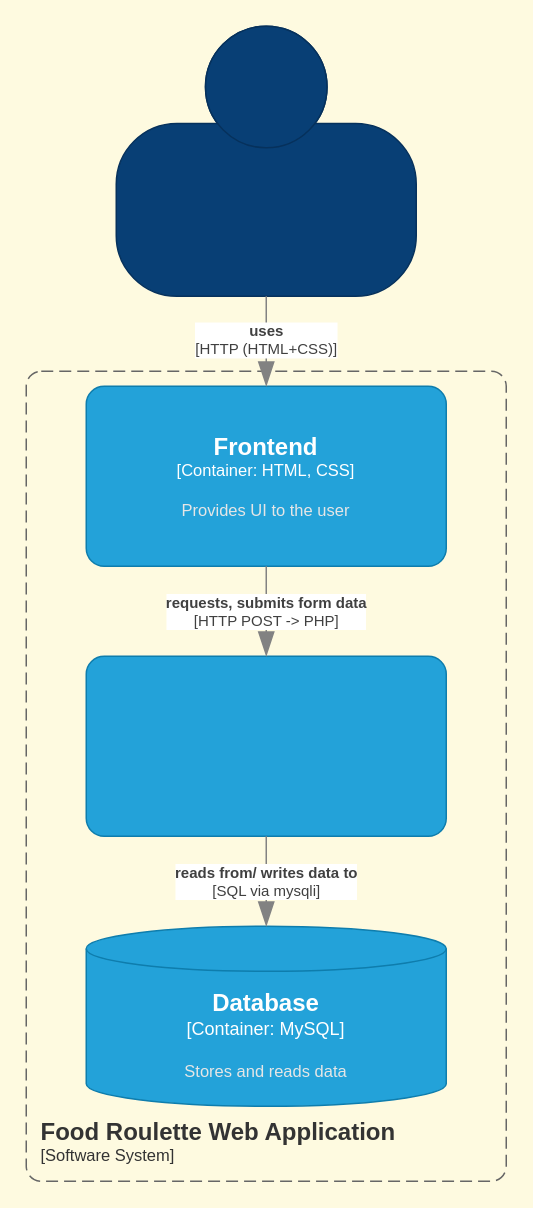
This 533x1208 diagram has some shape labels left out. Here are the shapes that lost their labels. From the top down, the centre of each, then its label:
At point 265,160: "Food Roulette User [Person] A user who wants fun cooking challenges".
At point 265,745: "Backend [Container: PHP] Handles all the requests from the frontend".
